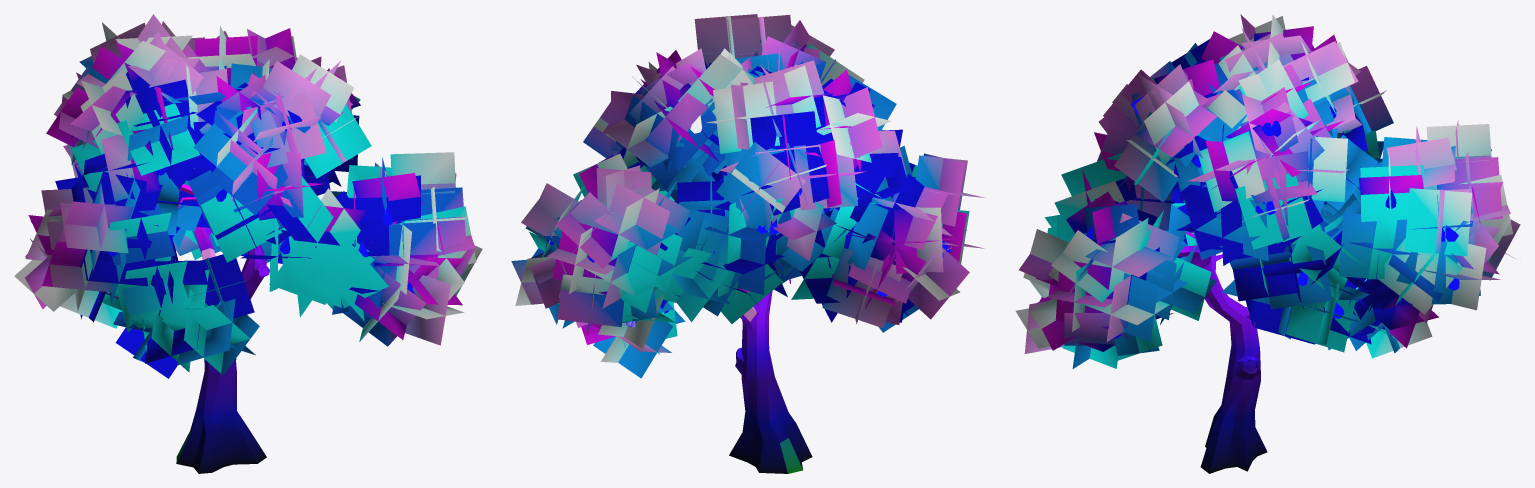
The model's file is PT_Fruit_Tree_01_pears.fbx.
3 views of the same model, side by side, from view 1: azimuth 30°, elevation 25°; view 2: azimuth 150°, elevation 25°; view 3: azimuth 270°, elevation 25° (orthographic).
Visible parts, largest first — view 1: PT_Fruit_Tree_01_pears_LOD0; view 2: PT_Fruit_Tree_01_pears_LOD0; view 3: PT_Fruit_Tree_01_pears_LOD0.
Part boxes in pixels (bbox=[...]): PT_Fruit_Tree_01_pears_LOD0: bbox=[14, 14, 482, 473]; PT_Fruit_Tree_01_pears_LOD0: bbox=[511, 14, 984, 473]; PT_Fruit_Tree_01_pears_LOD0: bbox=[1015, 14, 1520, 473].
Size of what is drawn, in the model's own units: 650 by 658 by 725.
